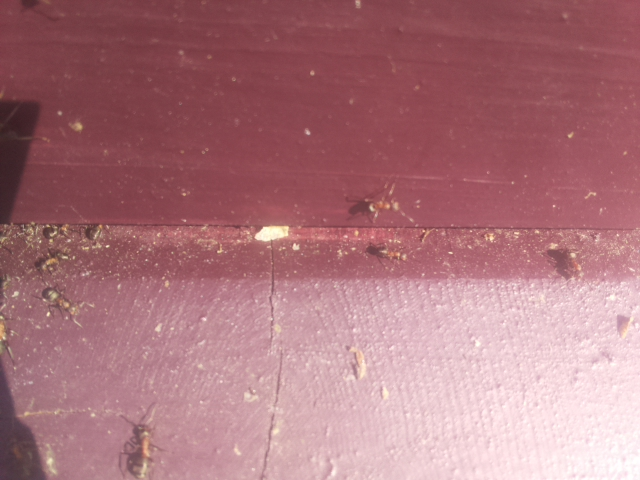ant: (123, 417, 161, 480), (35, 279, 87, 323), (339, 339, 370, 384), (365, 239, 412, 262)
